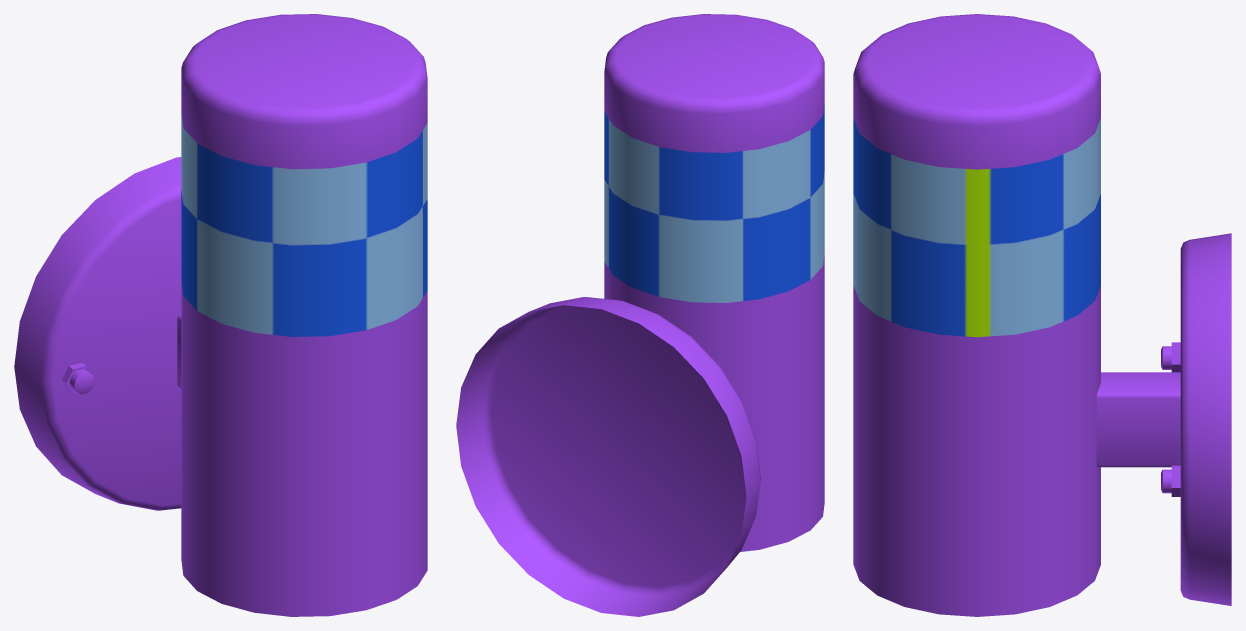
The model's file is LightWall03_1.FBX.
3 renders of one model, left to right at view 1: azimuth 30°, elevation 25°; view 2: azimuth 150°, elevation 25°; view 3: azimuth 270°, elevation 25°, orthographic. The views are drawn at different scales.
Parts seen in each view (by area): view 1: LightWall03_1; view 2: LightWall03_1; view 3: LightWall03_1.
Boxes of the visible parts, x1=… form: LightWall03_1: x1=14, y1=14, x2=427, y2=616; LightWall03_1: x1=456, y1=14, x2=824, y2=616; LightWall03_1: x1=853, y1=14, x2=1231, y2=616.
Bounding box in the file's own units: 12.43 × 19.34 × 12.56.
